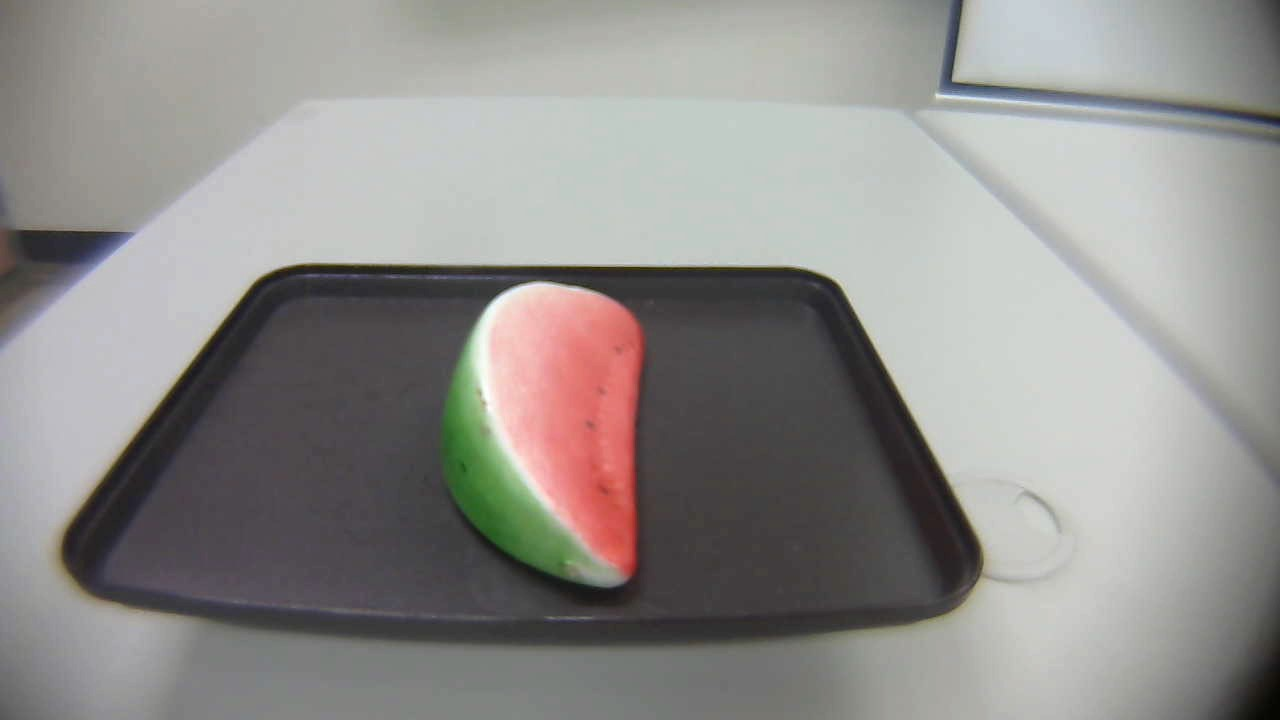water melon: (441, 268, 662, 605)
